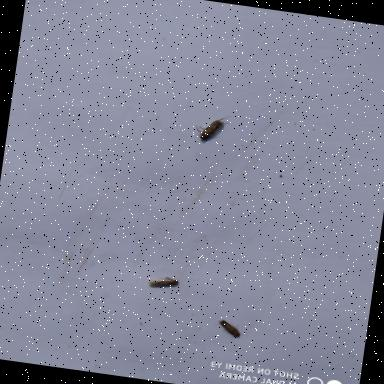pbw: (188, 107, 234, 147), (142, 270, 182, 296), (214, 314, 246, 342)
